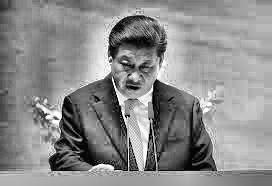angry: (104, 14, 167, 103)
